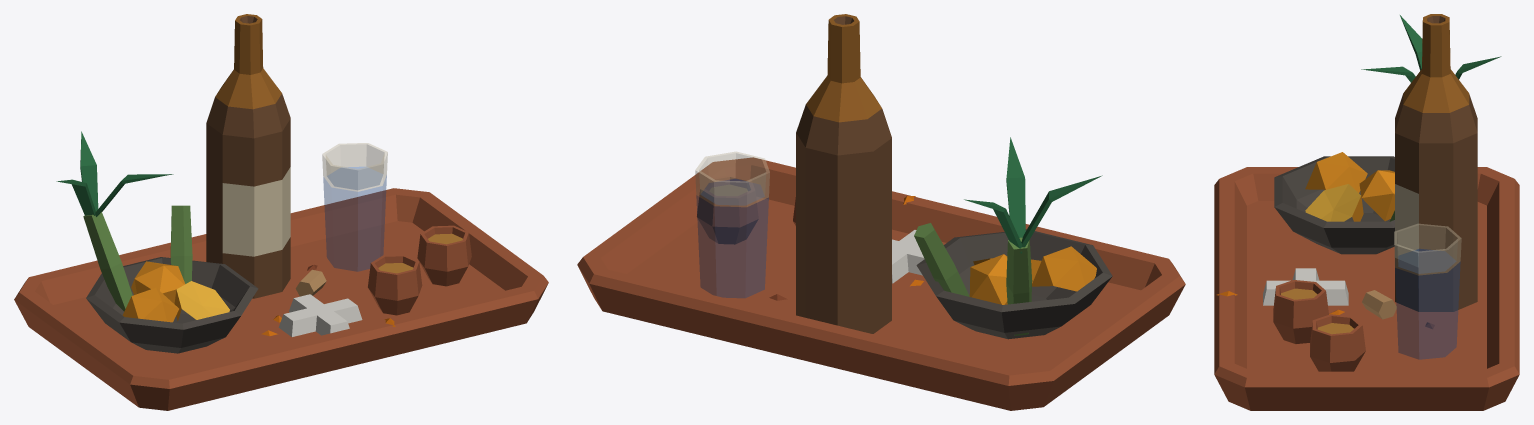
The model's file is ofrenda-offerings-tray-5f3635.glb.
3 renders of one model, left to right at view 1: azimuth 30°, elevation 25°; view 2: azimuth 150°, elevation 25°; view 3: azimuth 270°, elevation 25°, orthographic. The views are drawn at different scales.
Parts seen in each view (by area): view 1: tray, mezcal-bottle-mesh, fruit-bowl-mesh, water-glass-mesh, copitas-mesh, salt-cross-mesh, cane-leaves-mesh; view 2: tray, mezcal-bottle-mesh, fruit-bowl-mesh, water-glass-mesh, copitas-mesh, cane-leaves-mesh, salt-cross-mesh; view 3: tray, mezcal-bottle-mesh, fruit-bowl-mesh, water-glass-mesh, copitas-mesh, salt-cross-mesh, cane-leaves-mesh.
Boxes of the visible parts, left/top/right/bottom form: tray: left=14, top=188, right=548, bottom=410; mezcal-bottle-mesh: left=206, top=14, right=326, bottom=298; fruit-bowl-mesh: left=83, top=205, right=258, bottom=353; water-glass-mesh: left=322, top=143, right=387, bottom=271; copitas-mesh: left=368, top=225, right=471, bottom=315; salt-cross-mesh: left=278, top=294, right=362, bottom=336; cane-leaves-mesh: left=56, top=131, right=173, bottom=216; tray: left=577, top=157, right=1185, bottom=410; mezcal-bottle-mesh: left=796, top=14, right=891, bottom=333; fruit-bowl-mesh: left=914, top=223, right=1112, bottom=339; water-glass-mesh: left=695, top=151, right=769, bottom=297; copitas-mesh: left=697, top=175, right=795, bottom=244; cane-leaves-mesh: left=964, top=137, right=1102, bottom=253; salt-cross-mesh: left=892, top=230, right=924, bottom=283; tray: left=1214, top=167, right=1519, bottom=410; mezcal-bottle-mesh: left=1362, top=14, right=1477, bottom=319; fruit-bowl-mesh: left=1274, top=152, right=1394, bottom=254; water-glass-mesh: left=1394, top=224, right=1461, bottom=359; copitas-mesh: left=1273, top=280, right=1365, bottom=371; salt-cross-mesh: left=1263, top=268, right=1348, bottom=305; cane-leaves-mesh: left=1361, top=15, right=1501, bottom=82.
Bounding box in the file's own units: 0.5011 × 0.314 × 0.3.
